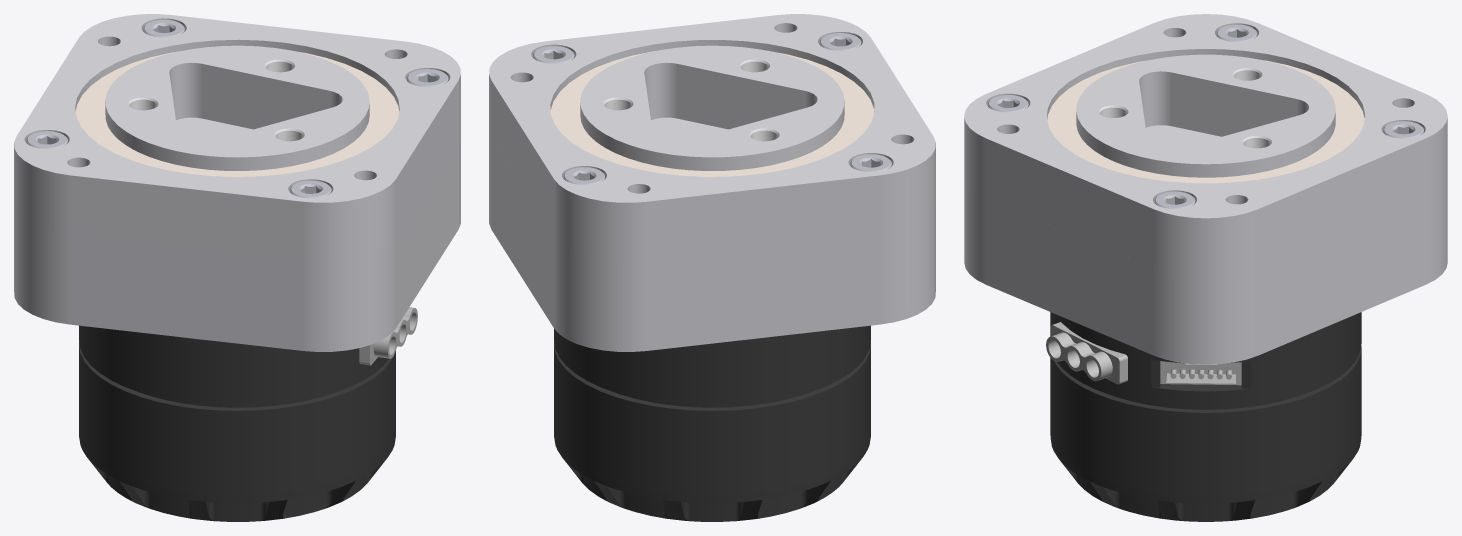
File: cycloidal-gearbox-lines.glb
3 views of the same model, side by side, from view 1: azimuth 30°, elevation 25°; view 2: azimuth 150°, elevation 25°; view 3: azimuth 270°, elevation 25° (orthographic).
Visible parts, largest first — view 1: 2026, R&D, Cycloidal Gearbox, Mk2, Output Cap-1, RoboMaster M3508 P19 Brushless DC Gear Motor(2)^RM3508_NoGea (×2), 2026, R&D, Cycloidal Gearbox, Mk2, Rotor Casing-1, 2026, R&D, Cycloidal Gearbox, Mk2, Shaft-1, Bearing_35mmID_47mmOD_7W-1, 2026, R&D, Cycloidal Gearbox, Cycloidal Mk2, SocketHeadScrew_Configured-9; view 2: 2026, R&D, Cycloidal Gearbox, Mk2, Output Cap-1, RoboMaster M3508 P19 Brushless DC Gear Motor(2)^RM3508_NoGea, 2026, R&D, Cycloidal Gearbox, Mk2, Rotor Casing-1, 2026, R&D, Cycloidal Gearbox, Mk2, Shaft-1, Bearing_35mmID_47mmOD_7W-1, 2026, R&D, Cycloidal Gearbox, Cycloidal Mk2, SocketHeadScrew_Configured-9; view 3: 2026, R&D, Cycloidal Gearbox, Mk2, Output Cap-1, RoboMaster M3508 P19 Brushless DC Gear Motor(2)^RM3508_NoGea (×3), 2026, R&D, Cycloidal Gearbox, Mk2, Rotor Casing-1, 2026, R&D, Cycloidal Gearbox, Mk2, Shaft-1, Bearing_35mmID_47mmOD_7W-1, 2026, R&D, Cycloidal Gearbox, Cycloidal Mk2, SocketHeadScrew_Configured-9.
Part boxes in pixels (x1=…): 2026, R&D, Cycloidal Gearbox, Mk2, Output Cap-1: x1=14, y1=14, x2=460, y2=262; RoboMaster M3508 P19 Brushless DC Gear Motor(2)^RM3508_NoGea (×2): x1=79, y1=307, x2=417, y2=521; 2026, R&D, Cycloidal Gearbox, Mk2, Rotor Casing-1: x1=14, y1=135, x2=460, y2=351; 2026, R&D, Cycloidal Gearbox, Mk2, Shaft-1: x1=105, y1=45, x2=369, y2=170; Bearing_35mmID_47mmOD_7W-1: x1=75, y1=51, x2=399, y2=176; 2026, R&D, Cycloidal Gearbox, Cycloidal Mk2: x1=143, y1=19, x2=448, y2=198; SocketHeadScrew_Configured-9: x1=26, y1=131, x2=67, y2=148; 2026, R&D, Cycloidal Gearbox, Mk2, Output Cap-1: x1=489, y1=14, x2=935, y2=262; RoboMaster M3508 P19 Brushless DC Gear Motor(2)^RM3508_NoGea: x1=554, y1=325, x2=870, y2=521; 2026, R&D, Cycloidal Gearbox, Mk2, Rotor Casing-1: x1=489, y1=135, x2=935, y2=351; 2026, R&D, Cycloidal Gearbox, Mk2, Shaft-1: x1=580, y1=45, x2=844, y2=170; Bearing_35mmID_47mmOD_7W-1: x1=550, y1=50, x2=874, y2=176; 2026, R&D, Cycloidal Gearbox, Cycloidal Mk2: x1=533, y1=33, x2=861, y2=184; SocketHeadScrew_Configured-9: x1=850, y1=154, x2=891, y2=171; 2026, R&D, Cycloidal Gearbox, Mk2, Output Cap-1: x1=964, y1=14, x2=1447, y2=277; RoboMaster M3508 P19 Brushless DC Gear Motor(2)^RM3508_NoGea (×3): x1=1046, y1=312, x2=1361, y2=521; 2026, R&D, Cycloidal Gearbox, Mk2, Rotor Casing-1: x1=964, y1=177, x2=1447, y2=364; 2026, R&D, Cycloidal Gearbox, Mk2, Shaft-1: x1=1076, y1=54, x2=1335, y2=177; Bearing_35mmID_47mmOD_7W-1: x1=1047, y1=60, x2=1364, y2=183; 2026, R&D, Cycloidal Gearbox, Cycloidal Mk2: x1=988, y1=95, x2=1423, y2=208; SocketHeadScrew_Configured-9: x1=1216, y1=24, x2=1257, y2=41.
Size of the model in its own units: 0.0653 by 0.0579 by 0.0653.
